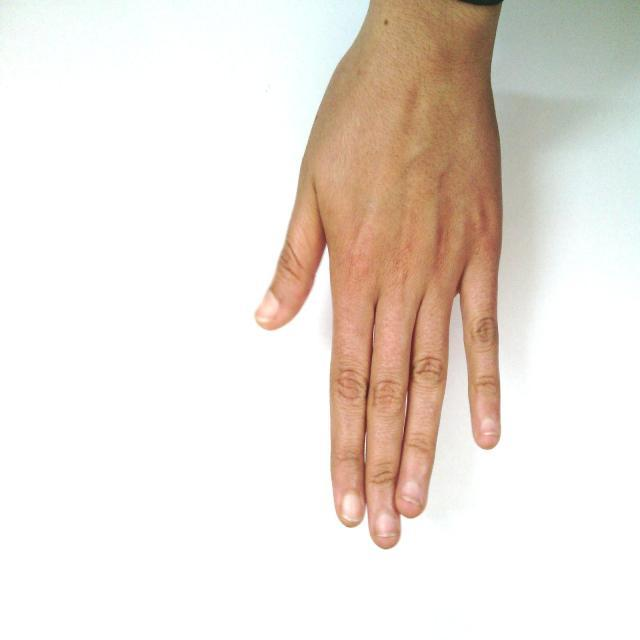Fingernail: (342, 493, 363, 522), (257, 292, 277, 321), (375, 513, 397, 536), (401, 483, 422, 504), (481, 419, 498, 435)
